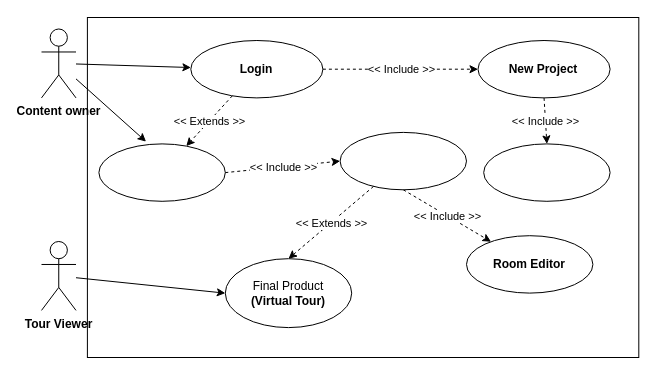
The diagram is 657 pixels wide and 375 high, and some of its shapes have lost their labels. The shapes that lost their labels are listed below. From the top down, each one's centre as x and y in pixels, then its label:
[161,172]: Dashboard
[402,160]: Project Explorer
[546,172]: Create New Project
